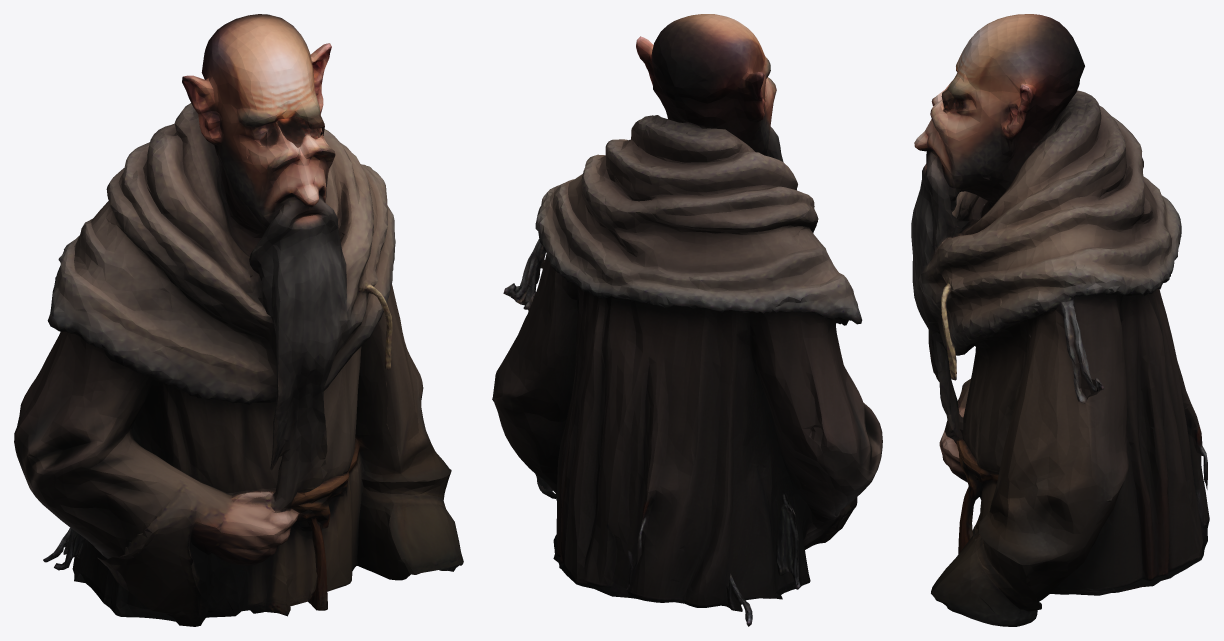
The model's file is vox.glb.
3 views of the same model, side by side, from view 1: azimuth 30°, elevation 25°; view 2: azimuth 150°, elevation 25°; view 3: azimuth 270°, elevation 25° (orthographic). The views are drawn at different scales.
Visible parts, largest first — view 1: world; view 2: world; view 3: world.
Boxes of the visible parts, x1=… form: world: x1=14, y1=14, x2=463, y2=626; world: x1=492, y1=14, x2=882, y2=626; world: x1=911, y1=14, x2=1209, y2=626.
Size of the model in its own units: 0.7246 by 0.999 by 0.5043.
Materials: 1 (1 with a texture image).
